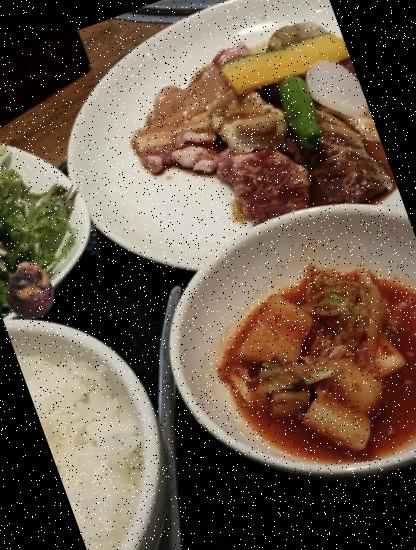Mangostan: (0, 251, 69, 328)
